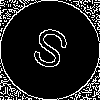S: (25, 25, 72, 80)
